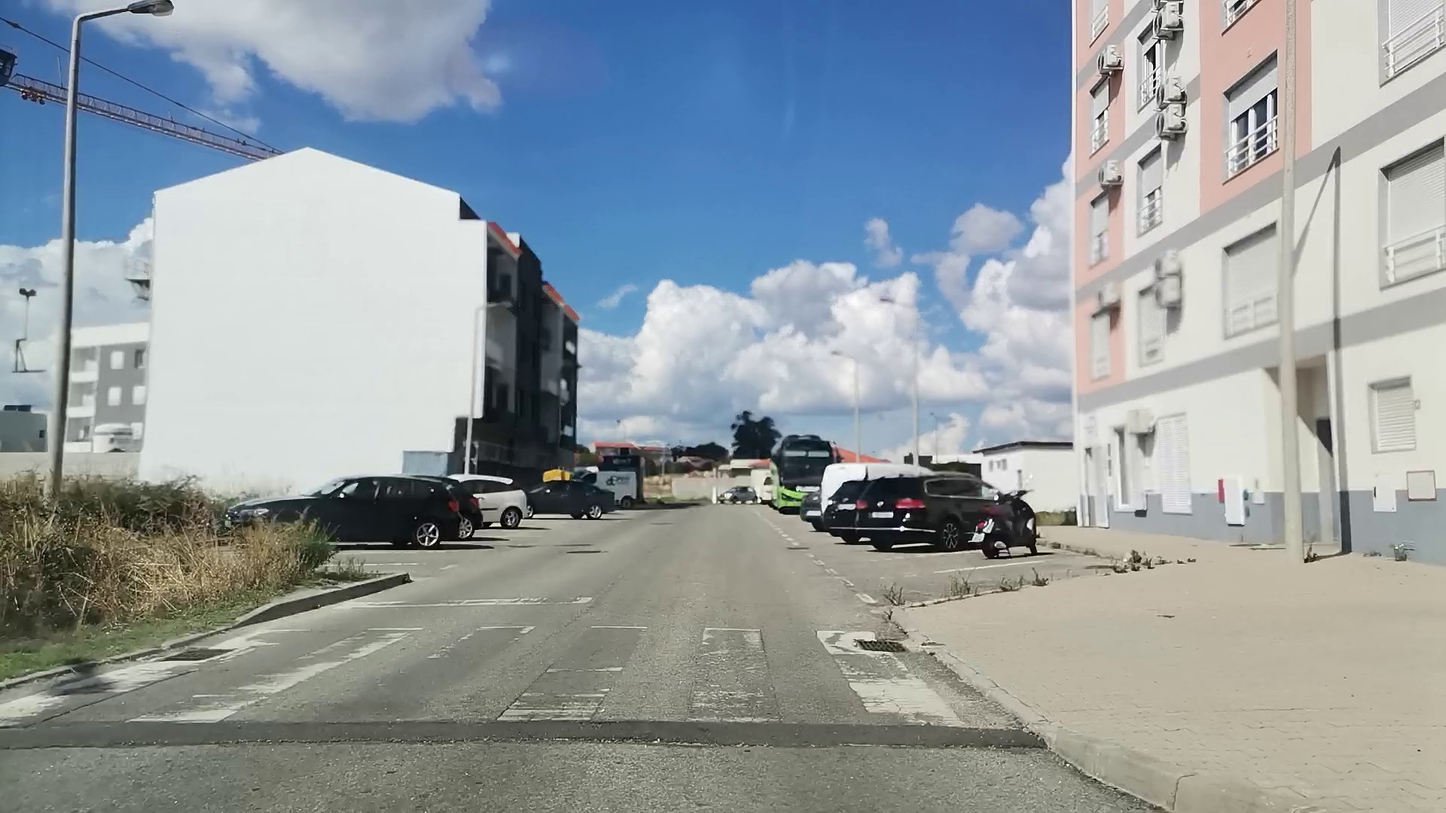Stairs: (0, 622, 970, 735)
